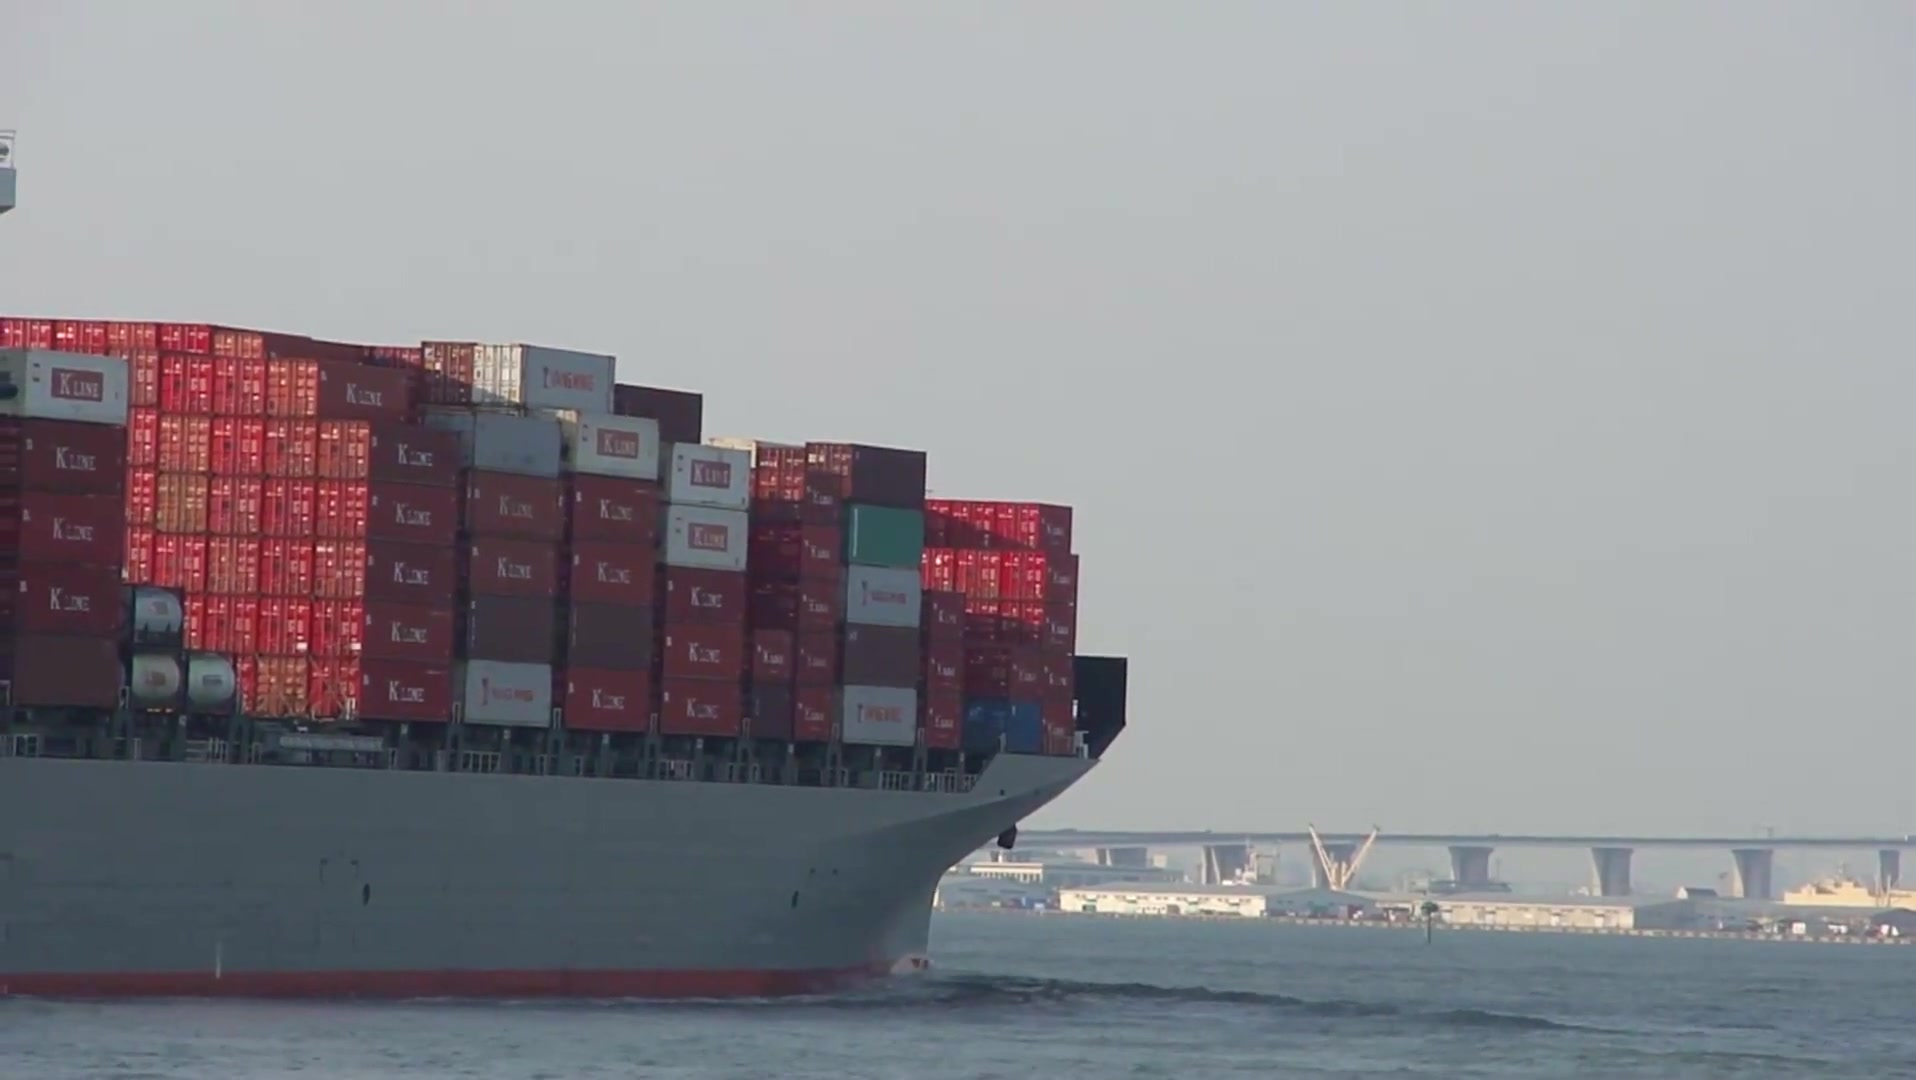boat: (4, 126, 1132, 1016)
